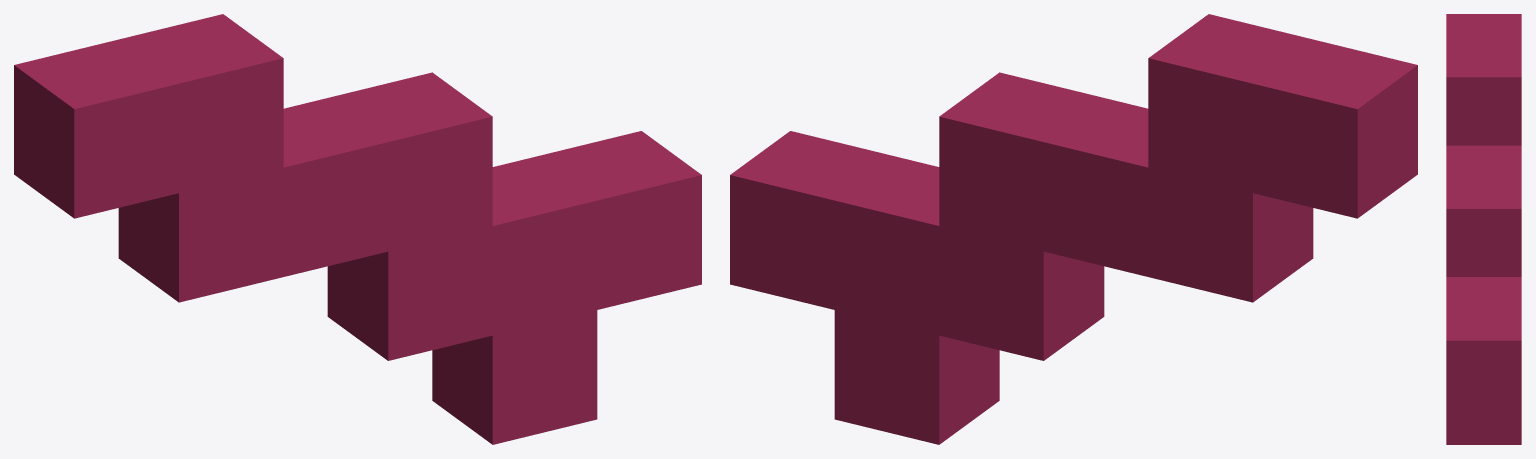
File: Lightning-Small-Purple.vox.obj
The picture shows the model from 3 angles, left to right: view 1: azimuth 30°, elevation 25°; view 2: azimuth 150°, elevation 25°; view 3: azimuth 270°, elevation 25°; orthographic projection. The views are drawn at different scales.
Size of the model in its own units: 0.6 by 0.4 by 0.1.
Materials: 1 (1 with a texture image).
